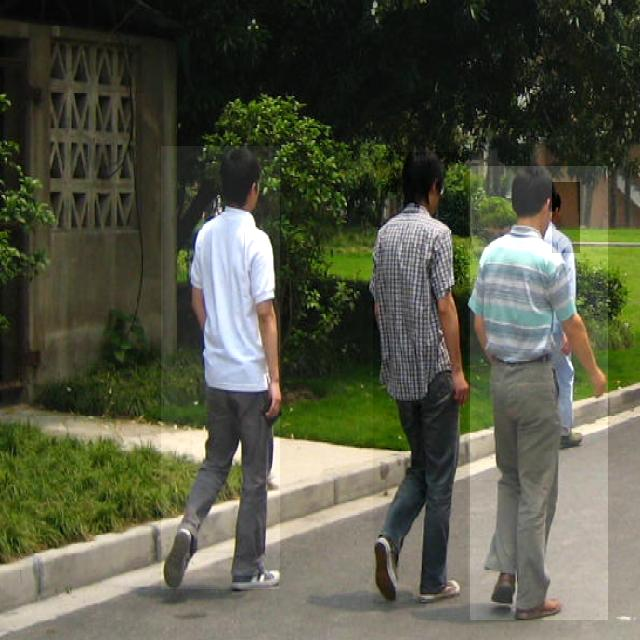with scooter: (470, 166, 608, 620), (161, 146, 280, 589), (373, 152, 468, 604), (552, 182, 580, 253)
